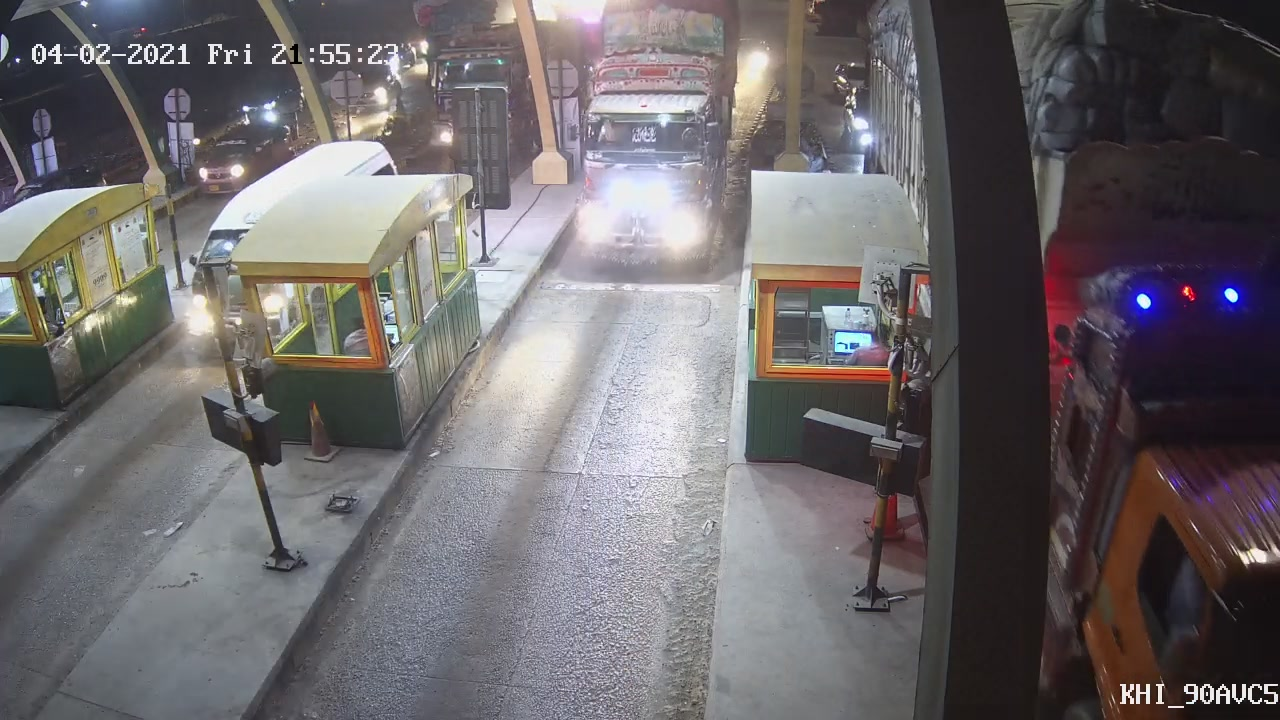F5: (568, 34, 737, 272)
